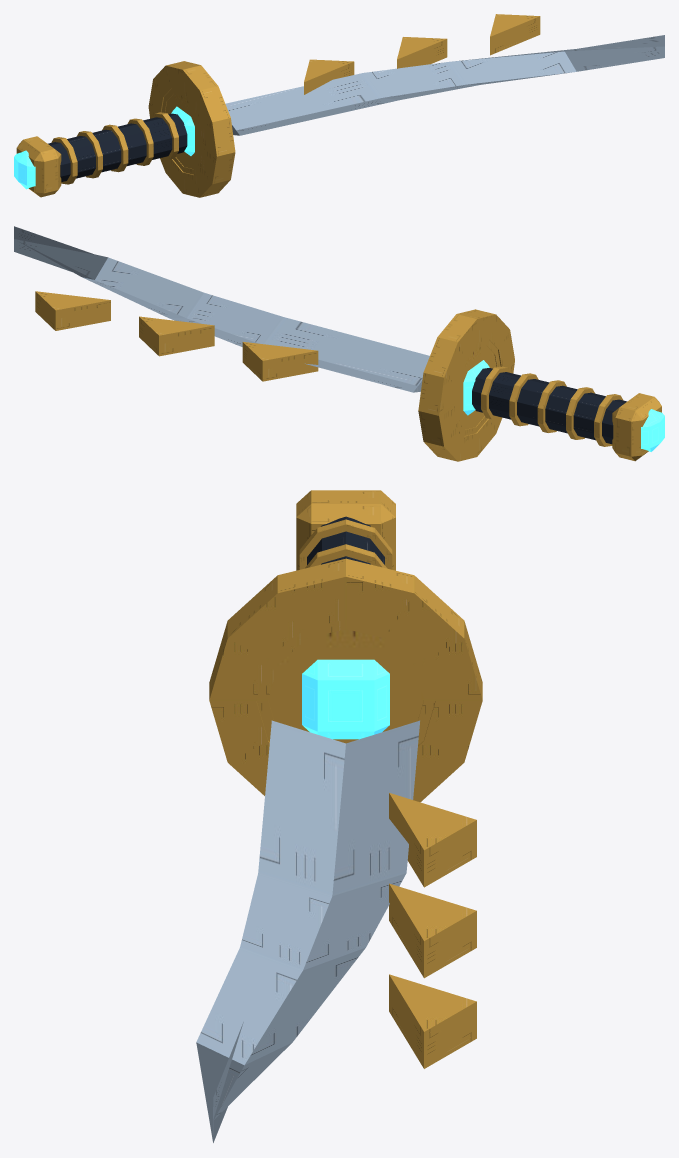
File: spur.glb
The picture shows the model from 3 angles, top to bottom: view 1: azimuth 30°, elevation 25°; view 2: azimuth 150°, elevation 25°; view 3: azimuth 270°, elevation 25°; orthographic projection. The views are drawn at different scales.
Parts seen in each view (by area): view 1: blade, grip, guard; view 2: blade, grip, guard; view 3: blade, guard, grip.
Boxes of the visible parts, <box> form: blade: <box>225,14,664,135</box>; grip: <box>14,112,187,197</box>; guard: <box>148,61,235,197</box>; blade: <box>14,226,429,392</box>; grip: <box>472,366,664,461</box>; guard: <box>418,309,514,461</box>; blade: <box>196,720,476,1142</box>; guard: <box>209,558,482,802</box>; grip: <box>296,490,395,570</box>.
Size of the model in its own units: 0.7255 by 0.14 by 0.1467.
Materials: 4 (4 with a texture image).
